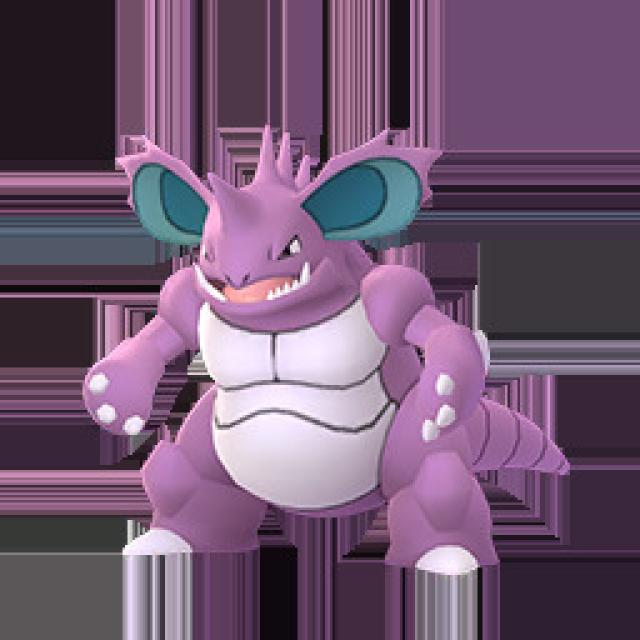Nidoking: (85, 126, 565, 571)
